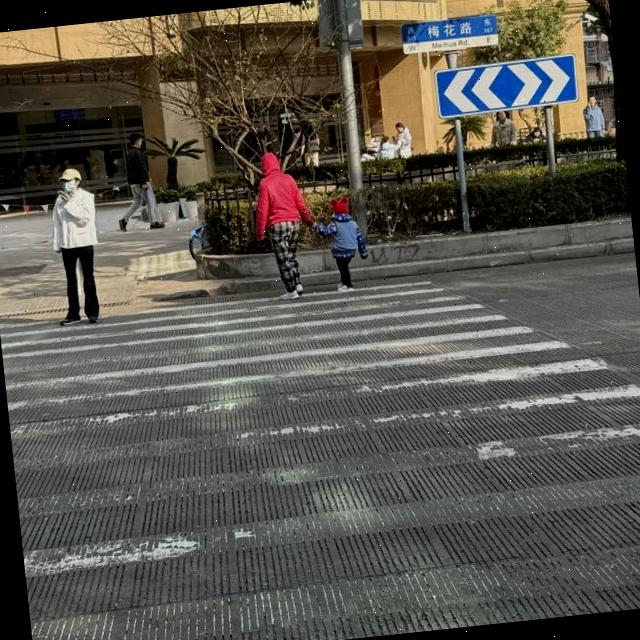curb: (352, 238, 634, 285), (363, 215, 632, 264), (154, 277, 280, 299), (193, 254, 276, 277), (302, 250, 335, 273), (303, 271, 339, 288)
